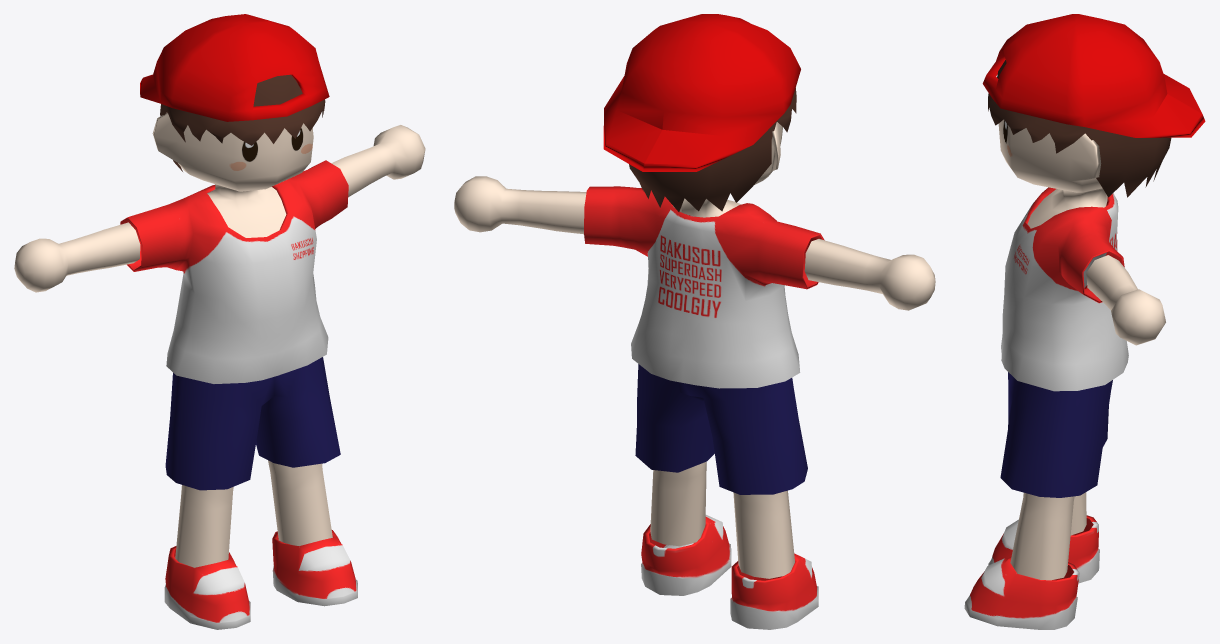
The model's file is player_test.fbx.
3 views of the same model, side by side, from view 1: azimuth 30°, elevation 25°; view 2: azimuth 150°, elevation 25°; view 3: azimuth 270°, elevation 25° (orthographic). The views are drawn at different scales.
Parts seen in each view (by area): view 1: souta; view 2: souta; view 3: souta.
Boxes of the visible parts, x1,y1,x2,y2 form: souta: [14, 14, 425, 629]; souta: [454, 14, 935, 629]; souta: [964, 14, 1205, 629].
Size of the model in its own units: 99.85 by 125 by 47.68.
6 materials, 6 textured.
